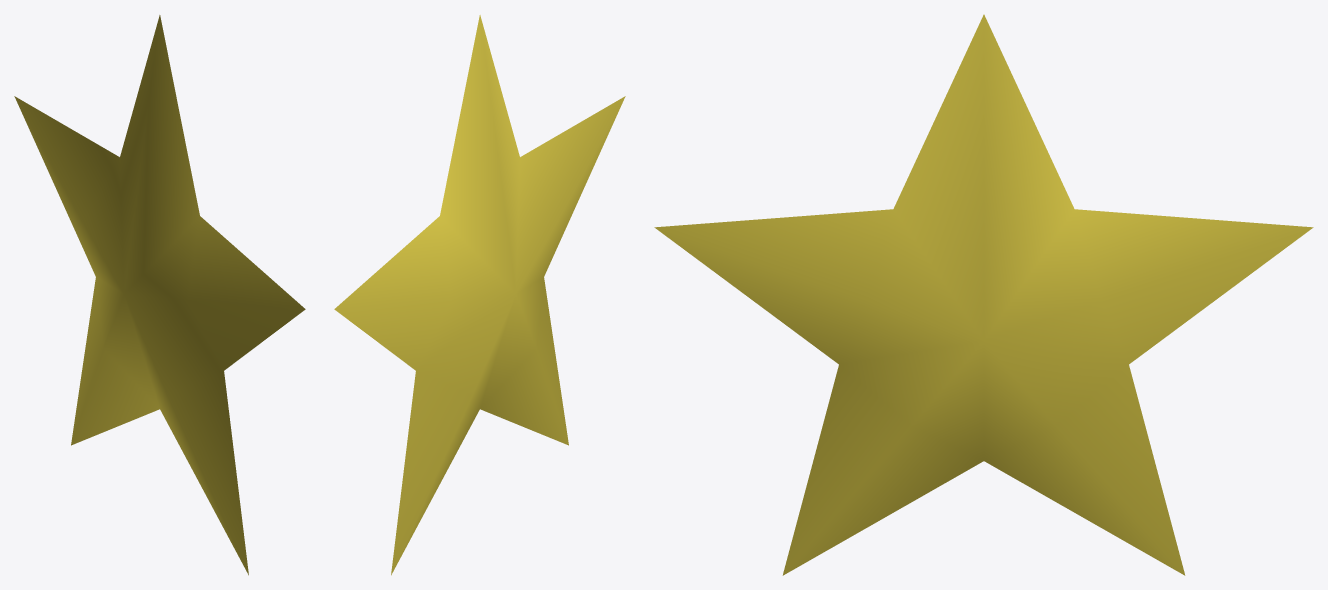
File: ChristmasTree_Dif2_Sc1.fbx
3 renders of one model, left to right at view 1: azimuth 30°, elevation 25°; view 2: azimuth 150°, elevation 25°; view 3: azimuth 270°, elevation 25°, orthographic. The views are drawn at different scales.
Parts seen in each view (by area): view 1: ChristmasTree_Dif2_Sc1; view 2: ChristmasTree_Dif2_Sc1; view 3: ChristmasTree_Dif2_Sc1.
Boxes of the visible parts, x1,y1,x2,y2 form: ChristmasTree_Dif2_Sc1: (14,15,305,575); ChristmasTree_Dif2_Sc1: (334,15,625,575); ChristmasTree_Dif2_Sc1: (654,14,1313,575).
Size of the model in its own units: 0.2039 by 1.43 by 1.34.
